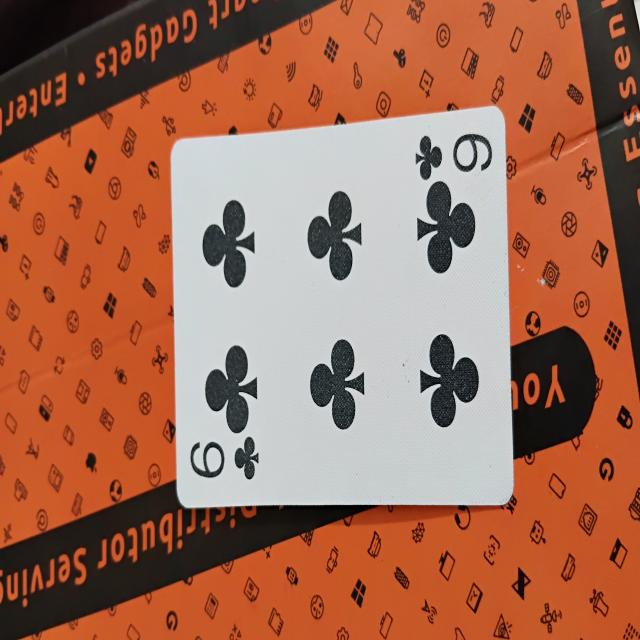6C: (167, 110, 517, 511)
